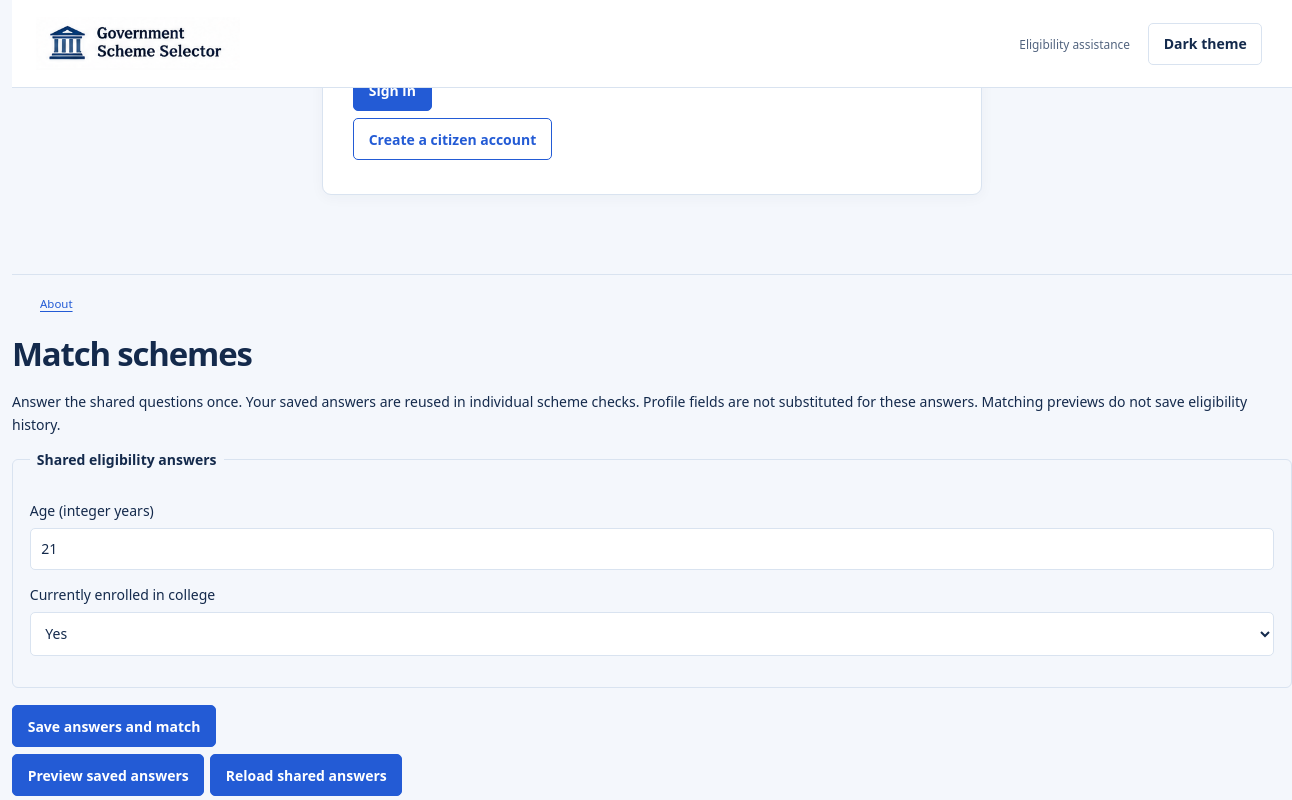
Test: loads saved shared answers and previews without a write or individual evaluation
The image size is (1292, 800).
(page scrolled)
Check: the number field labelled "Age (integer years)" holds "21", box [30,528,1274,570]
Check: the dropdown labelled "Currently enrolled in college" shows "Yes", box [30,612,1274,656]
Click the button "Preview saved answers": [108, 775] box [12,754,204,796]
(page scrolled)
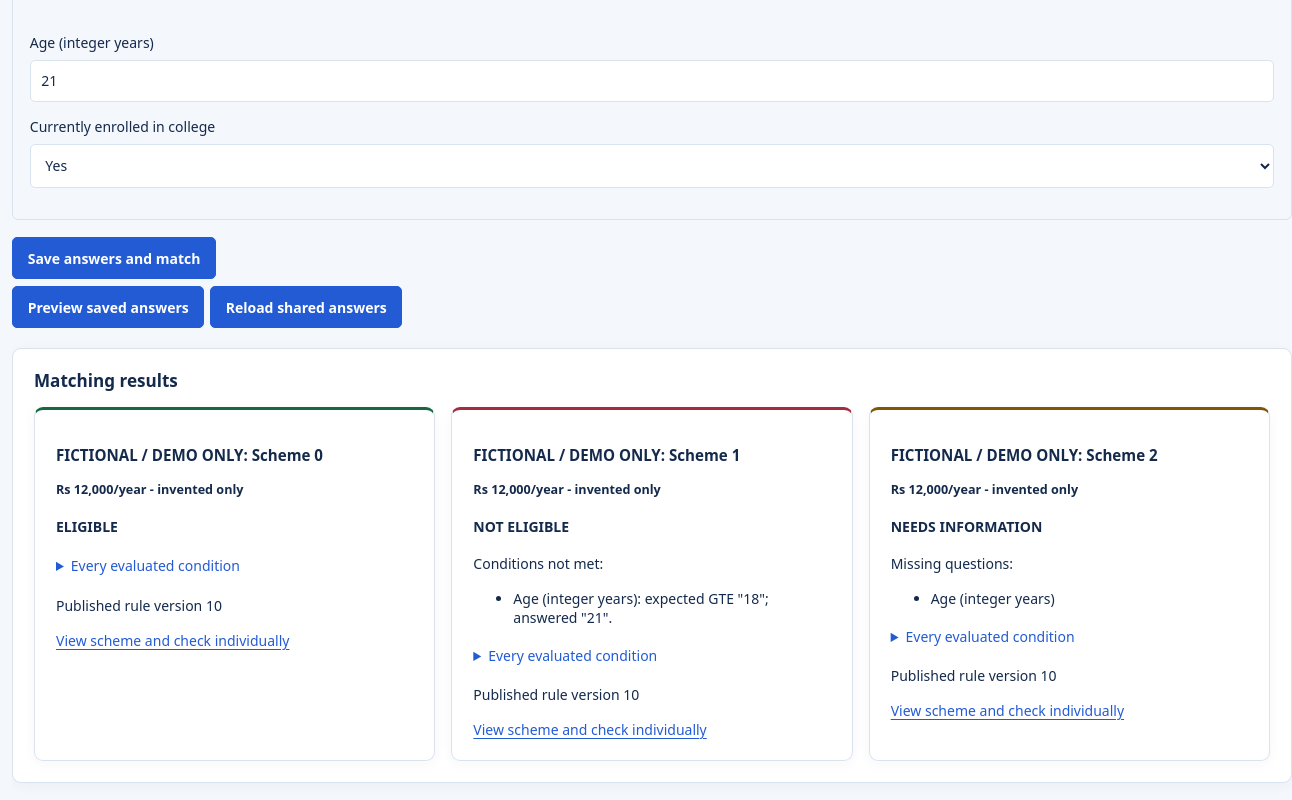
Check: the text "ELIGIBLE" is shown, box [56,517,118,536]
Check: the text "NOT ELIGIBLE" is shown, box [473,517,569,536]
Check: the text "NEEDS INFORMATION" is shown, box [891,517,1042,536]
